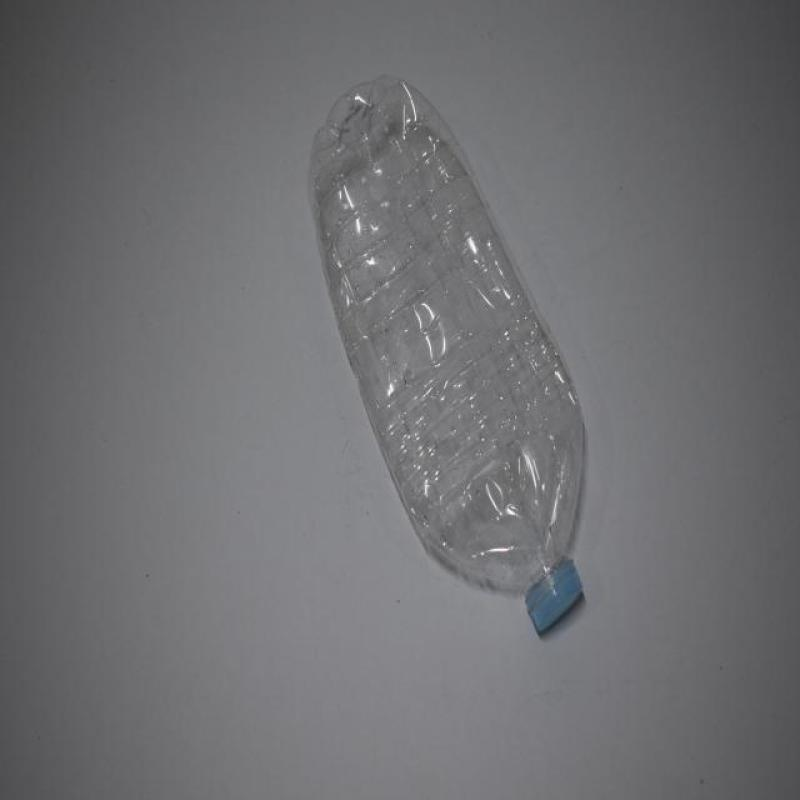botella: (304, 78, 587, 638)
